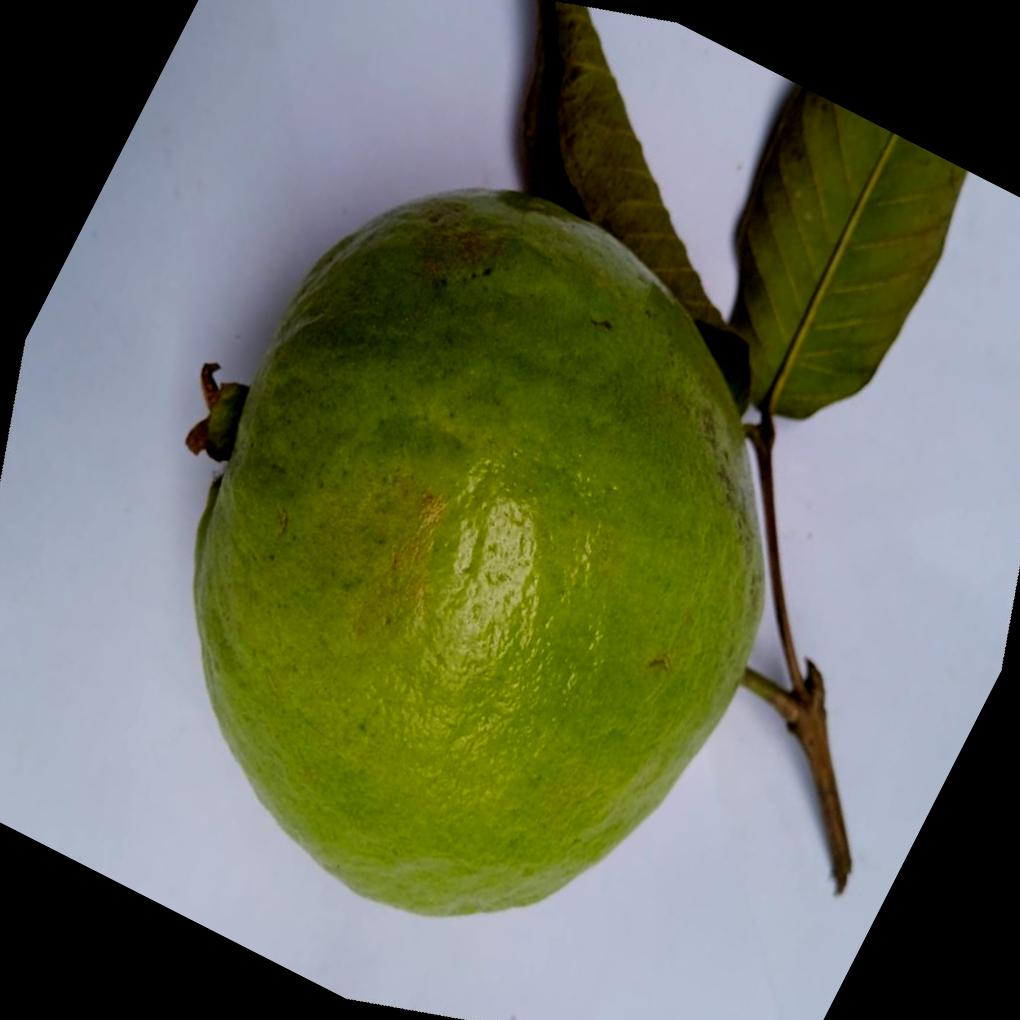FreshGuava: (188, 188, 775, 923)
